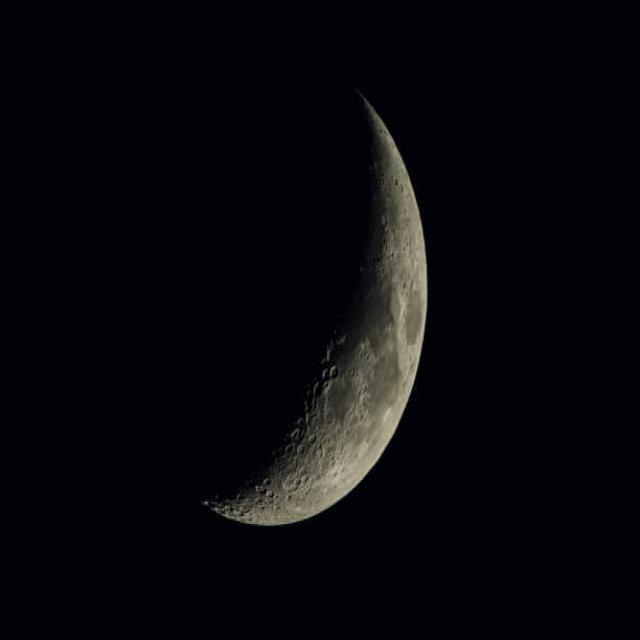moon: (118, 46, 430, 528)
